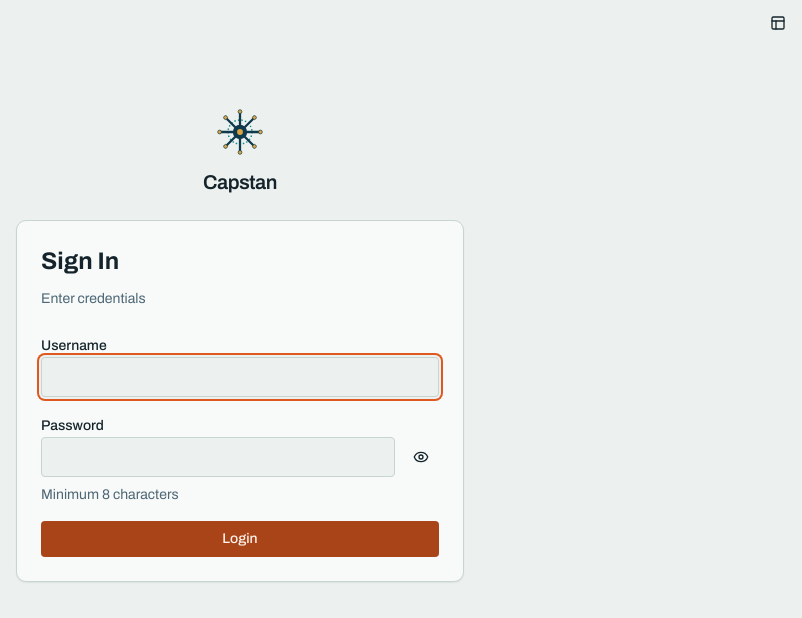
it: AuthPage › shows a failure inline only, without a duplicate error toast (AU-4)
Type "admin" into the field labelled "Username" at (240, 377), box [41,357,439,397]
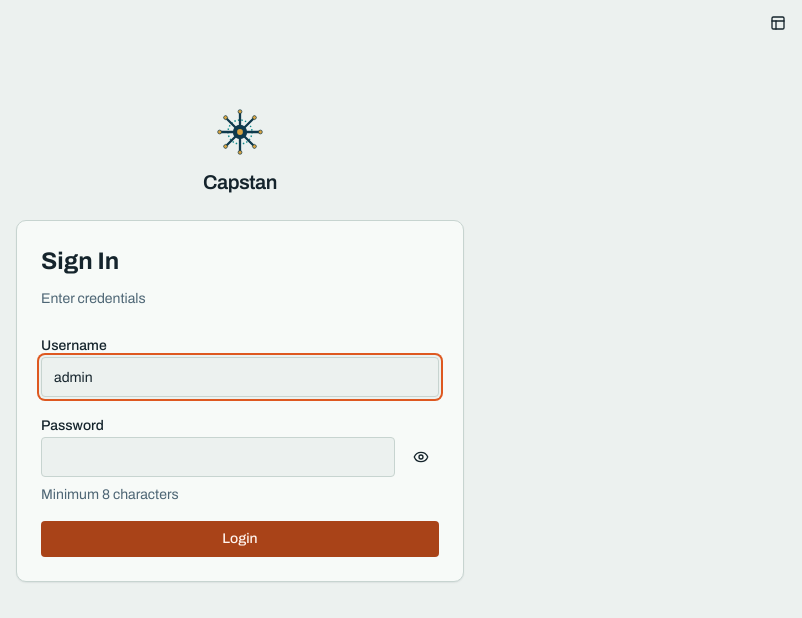
Type "plainpass" into the password field labelled "Password" at (218, 457), box [41,437,395,477]
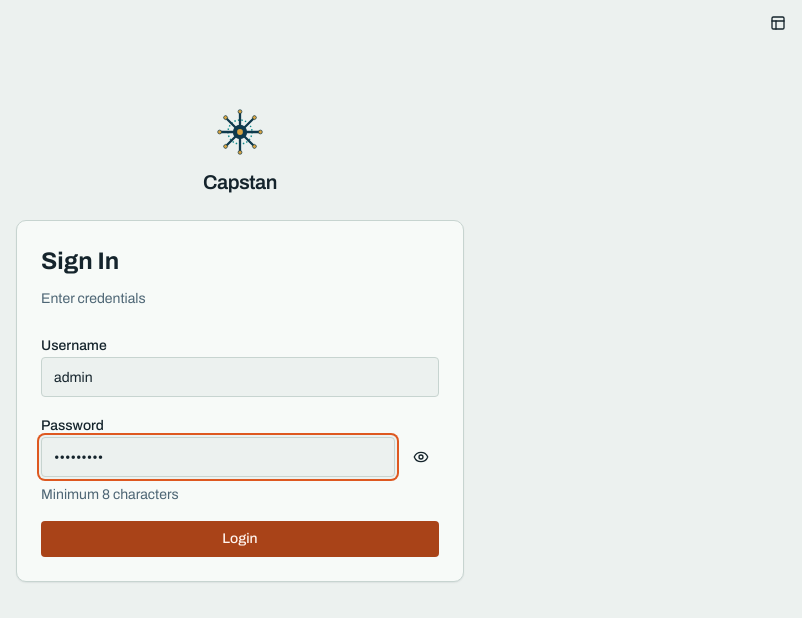
Click the button "Login" at (240, 539), box [41,521,439,557]
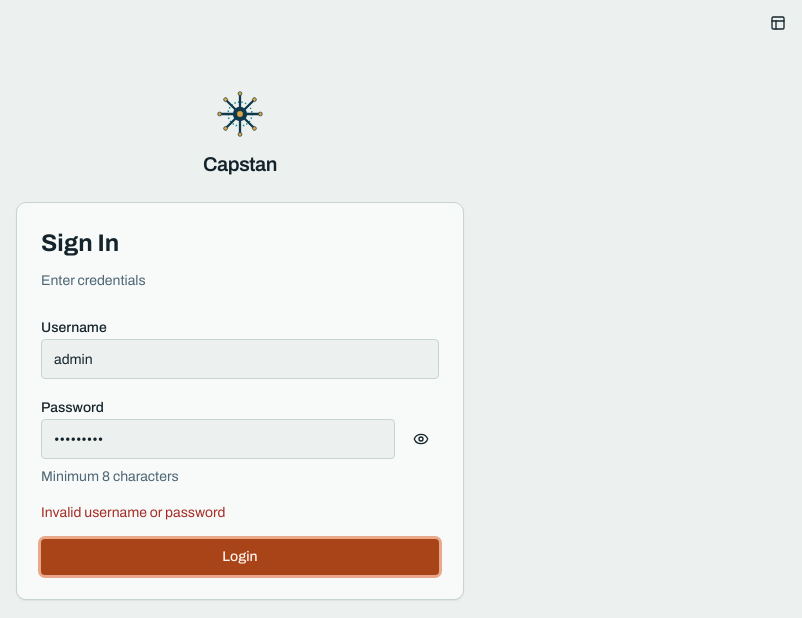
Result: the text "Invalid username or password" is shown at [41,505,225,520]
